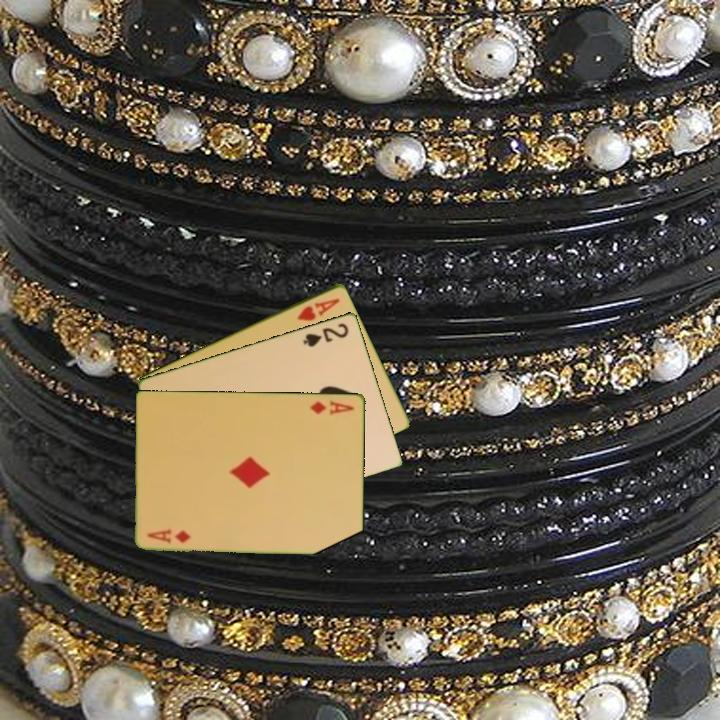2s: (299, 319, 352, 350)
Ad: (307, 396, 357, 417), (144, 526, 194, 546)
Ah: (294, 294, 343, 324)
